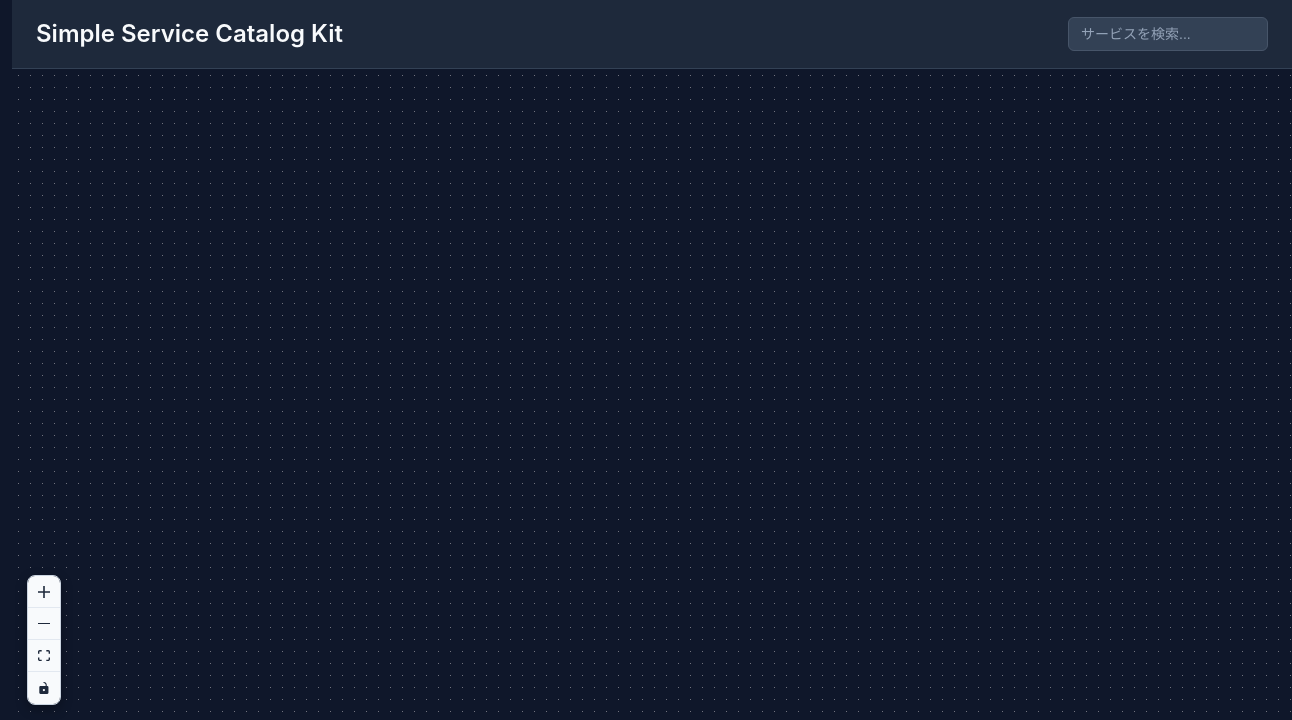
Test case: Full Integration Test › 検索機能が動作する
This screenshot has width=1292, height=720.
Type "payment" into the field with placeholder "サービスを検索...".
click(1168, 34); type("payment")  # box [1068, 17, 1268, 51]
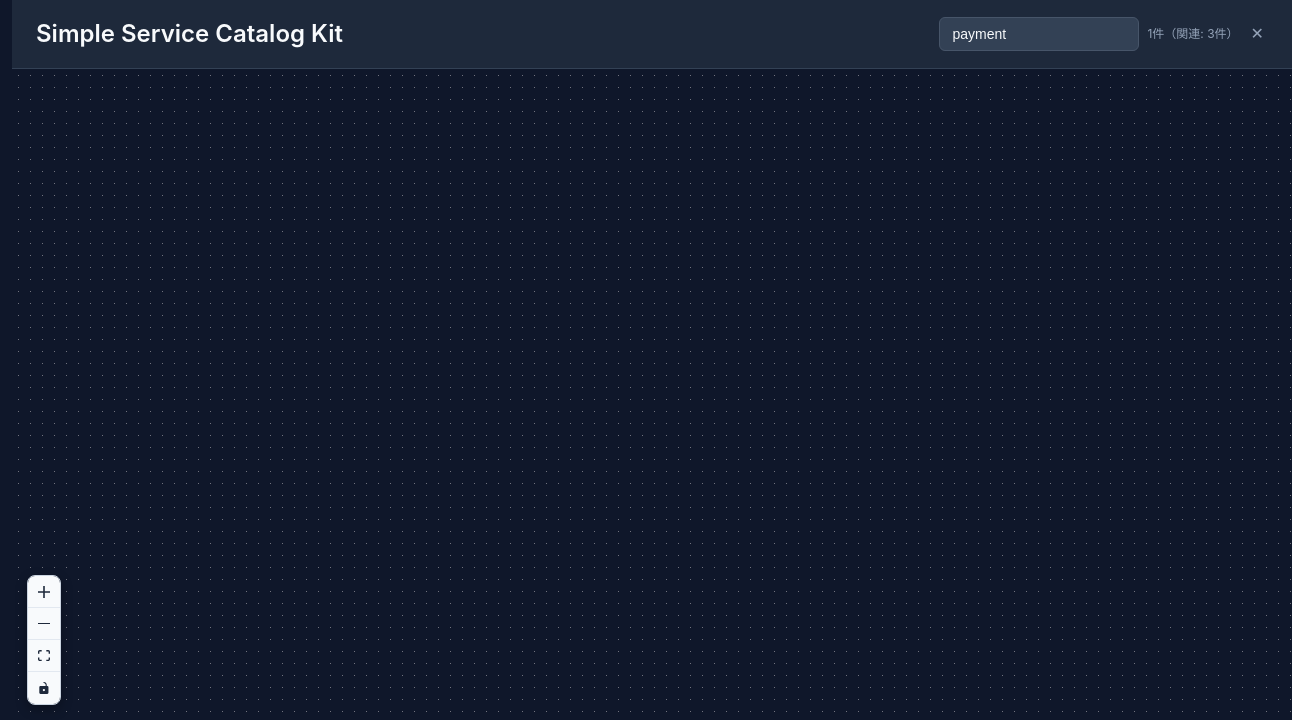
Now the text "1件" is shown, box [1147, 26, 1164, 41]
